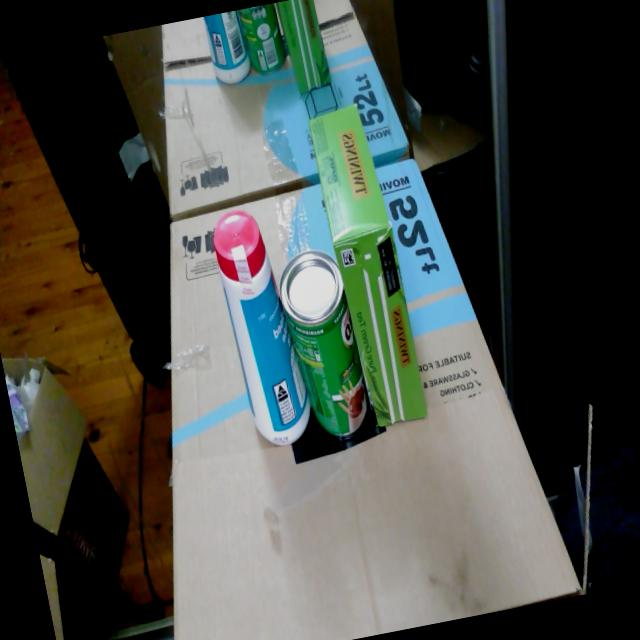nestle_milo_tin: (279, 250, 370, 439)
twinings_greentea_box: (309, 104, 427, 426)
woolworths_salt_bottle: (213, 210, 311, 446)
